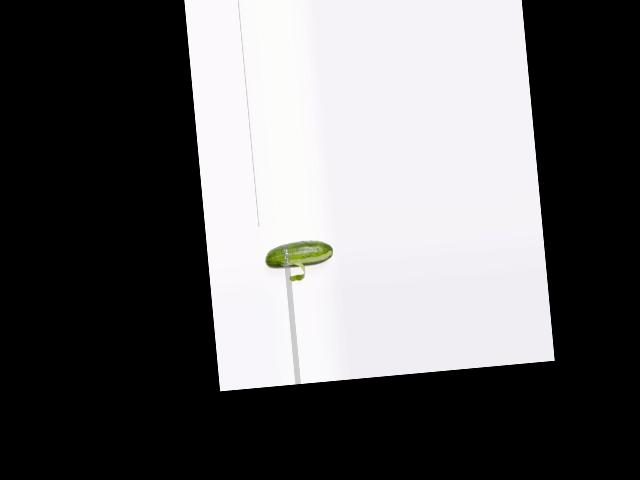cucumber: (263, 238, 334, 270)
